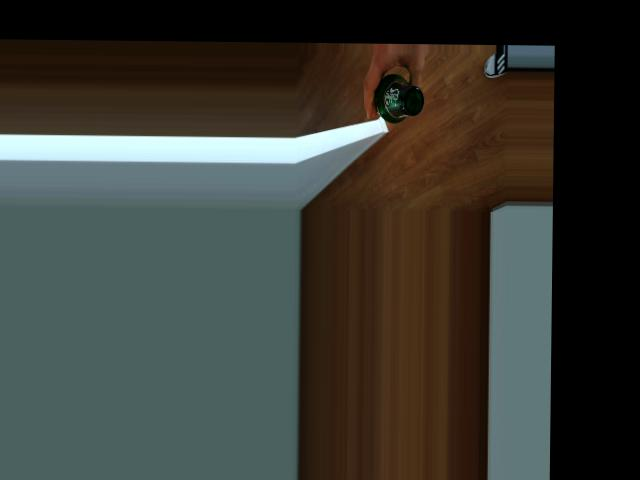beer: (374, 72, 424, 123)
